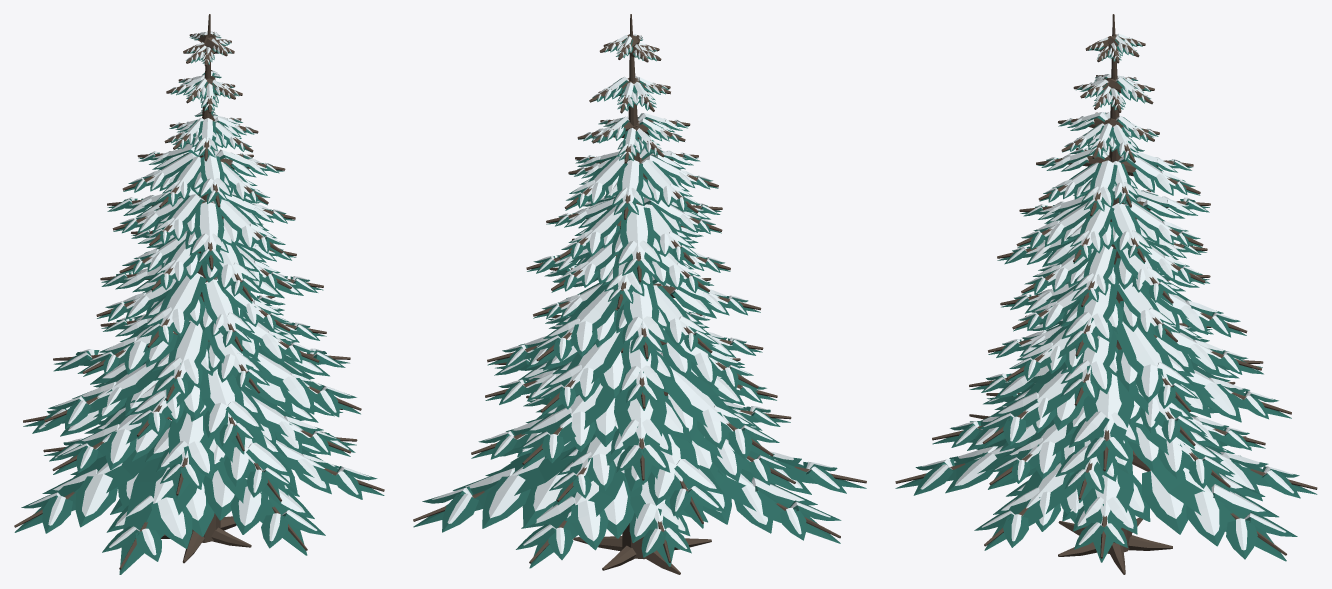
Rendered from TREE_06_PineDense.glb.
The picture shows the model from 3 angles, left to right: view 1: azimuth 30°, elevation 25°; view 2: azimuth 150°, elevation 25°; view 3: azimuth 270°, elevation 25°; orthographic projection. The views are drawn at different scales.
Parts seen in each view (by area): view 1: TREE_06_PineDense; view 2: TREE_06_PineDense; view 3: TREE_06_PineDense.
Part boxes in pixels (x1,y1,x2,y2): TREE_06_PineDense: [14, 14, 384, 574]; TREE_06_PineDense: [413, 14, 866, 574]; TREE_06_PineDense: [895, 14, 1317, 574].
Bounding box in the file's own units: 5.71 × 8.33 × 5.92.
